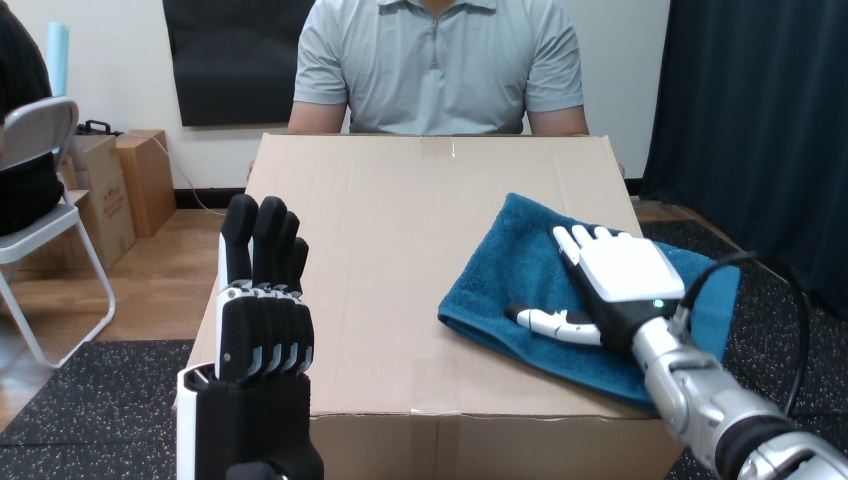left robot hand: (177, 194, 323, 479), (721, 262, 797, 406), (792, 300, 847, 454)
